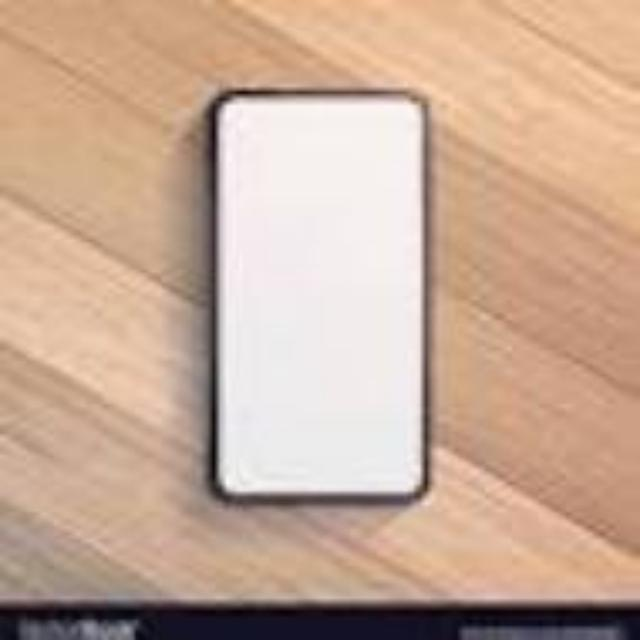phone: (212, 88, 433, 502)
